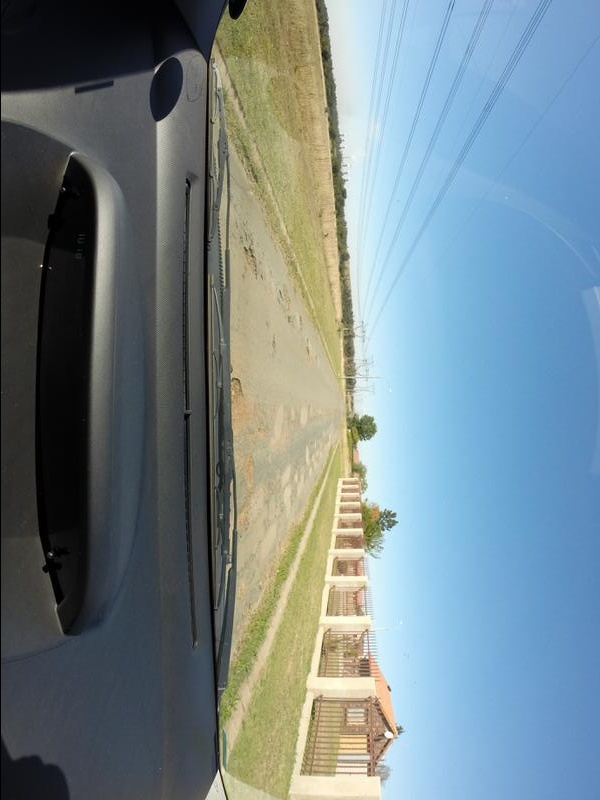pothole: (229, 375, 254, 447), (240, 456, 272, 500), (237, 238, 265, 286), (263, 335, 283, 361)
